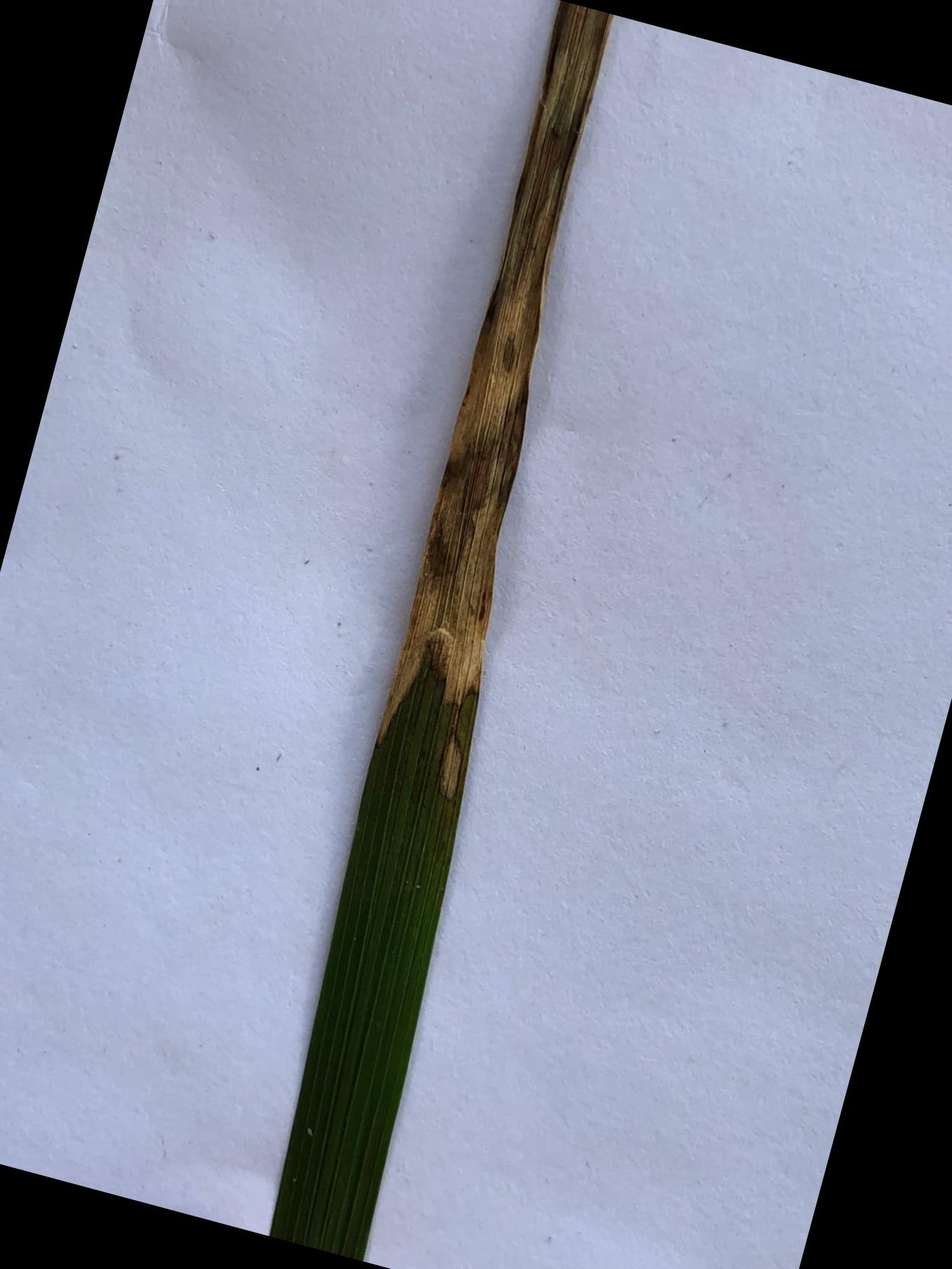Leaf Blight: (377, 0, 614, 795)
